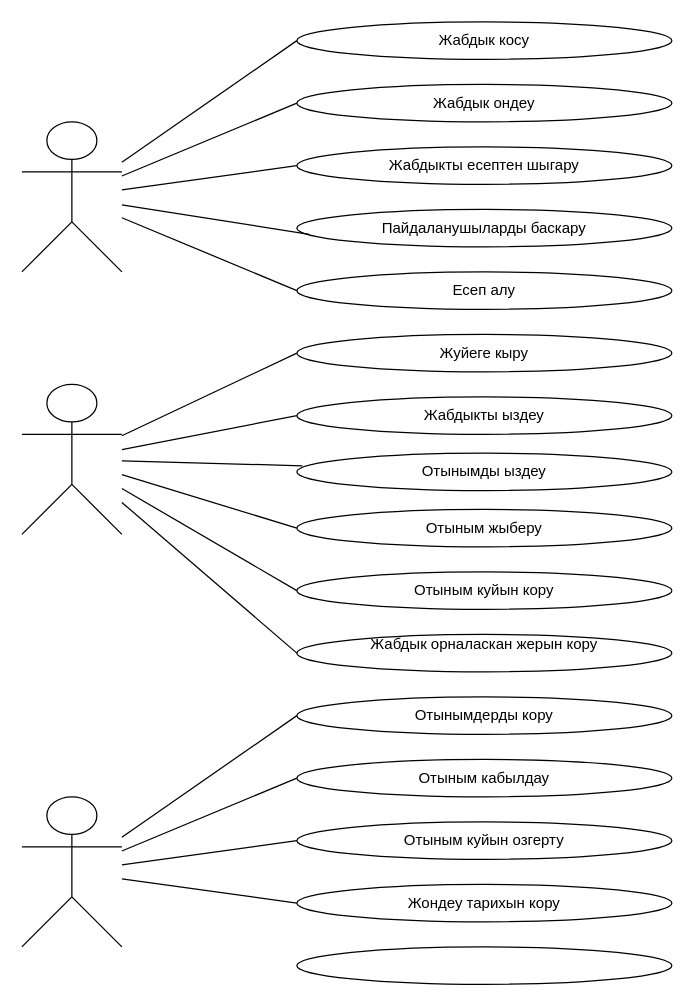
This 694x1006 diagram has some shape labels left out. Here are the shapes that lost their labels. From the top down, the centre of each, then its label:
At pixel 71 196: "Акымшы".
At pixel 71 458: "Окытушы".
At pixel 71 871: "Техник".
At pixel 484 965: "Отынымдерды созгылеу".
